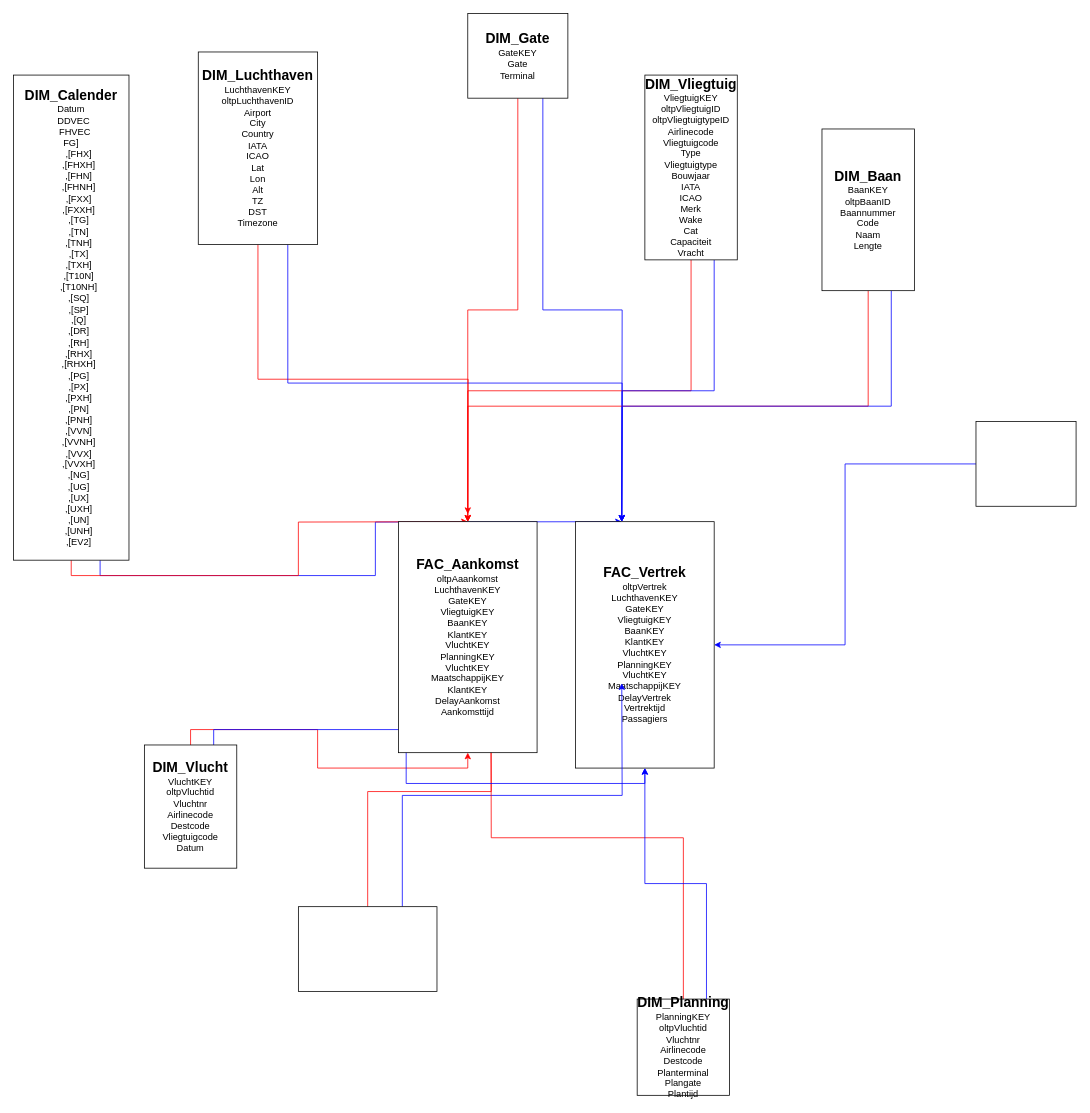
The diagram is 1090 pixels wide and 1113 high, and some of its shapes have lost their labels. Each missing label, with the centre of its shape:
DIM_Klant KlantKEY oltpKlantID Vluchtid Operatie Faciliteiten Shops: [1025,463]
DIM_Maatschappij MaatschappijKEY oltpMaatschappijID Naam IATA ICAO: [367,948]
